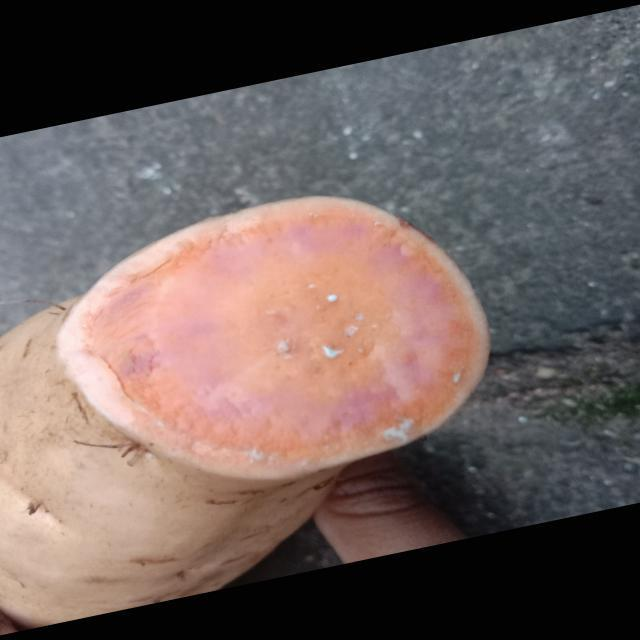Healthy Sweet Potato: (58, 196, 488, 478)
